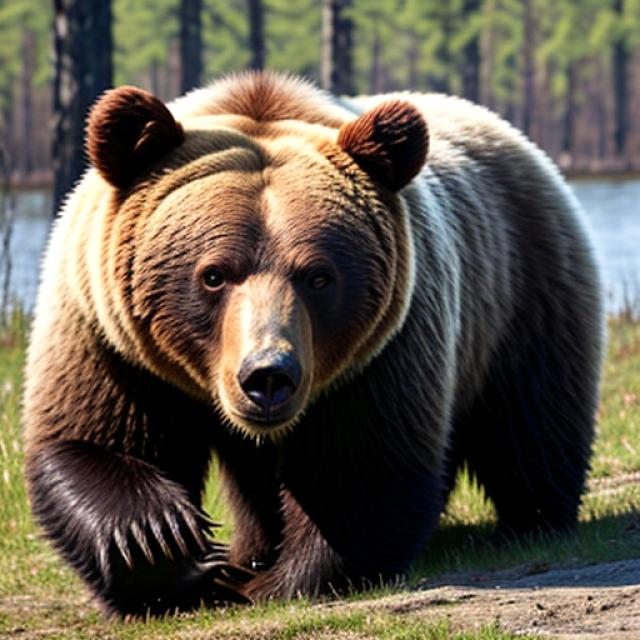bear: (50, 76, 579, 594)
